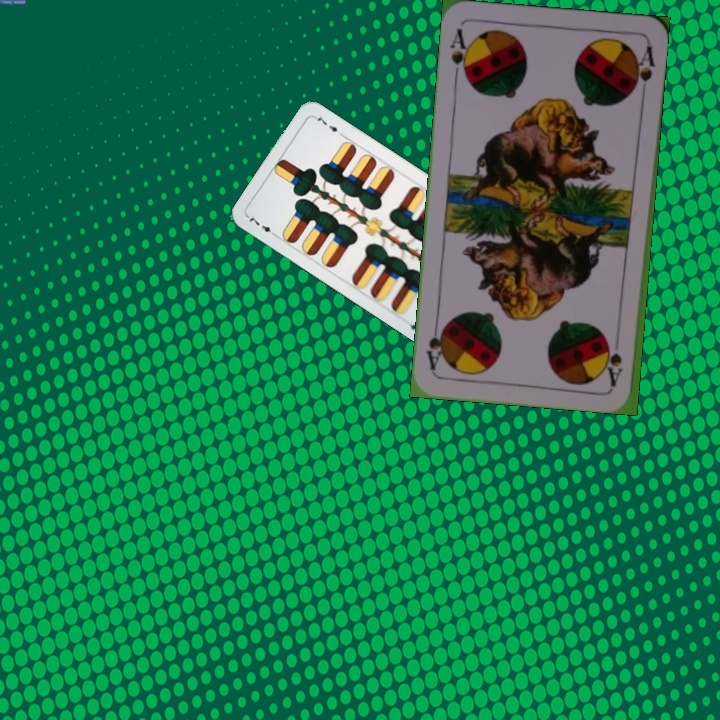E7: (243, 212, 280, 240)
SA: (445, 24, 473, 84), (605, 348, 625, 388)
